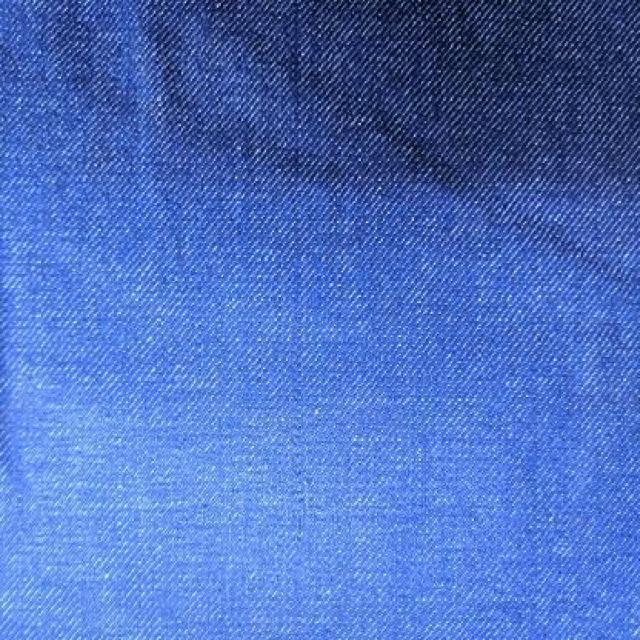pulled_or_thick_thread: (281, 0, 319, 340)
